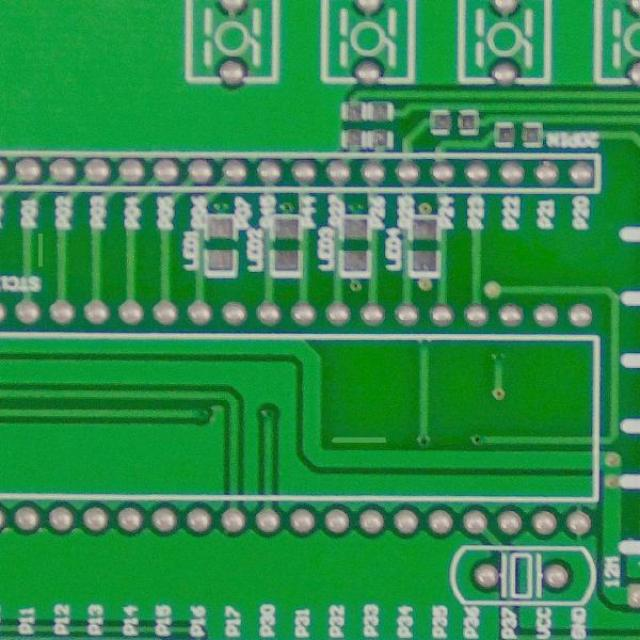Spurious_Cooper: (326, 431, 390, 448), (33, 229, 46, 269)
